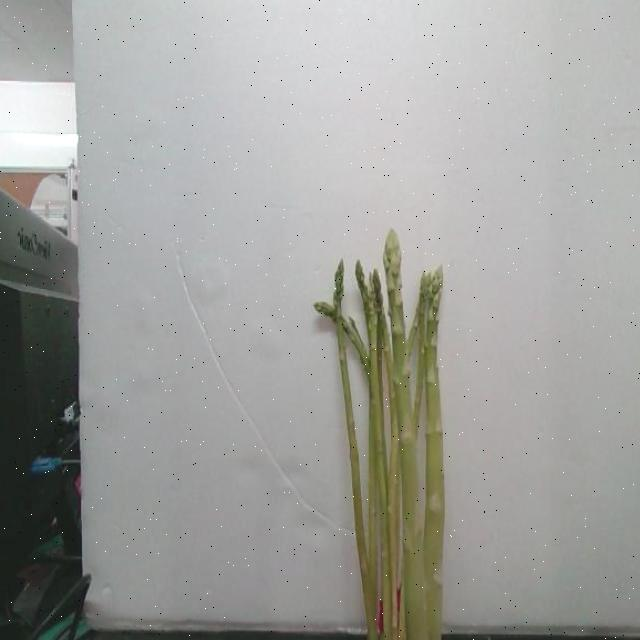aspargus: (384, 228, 431, 640)
